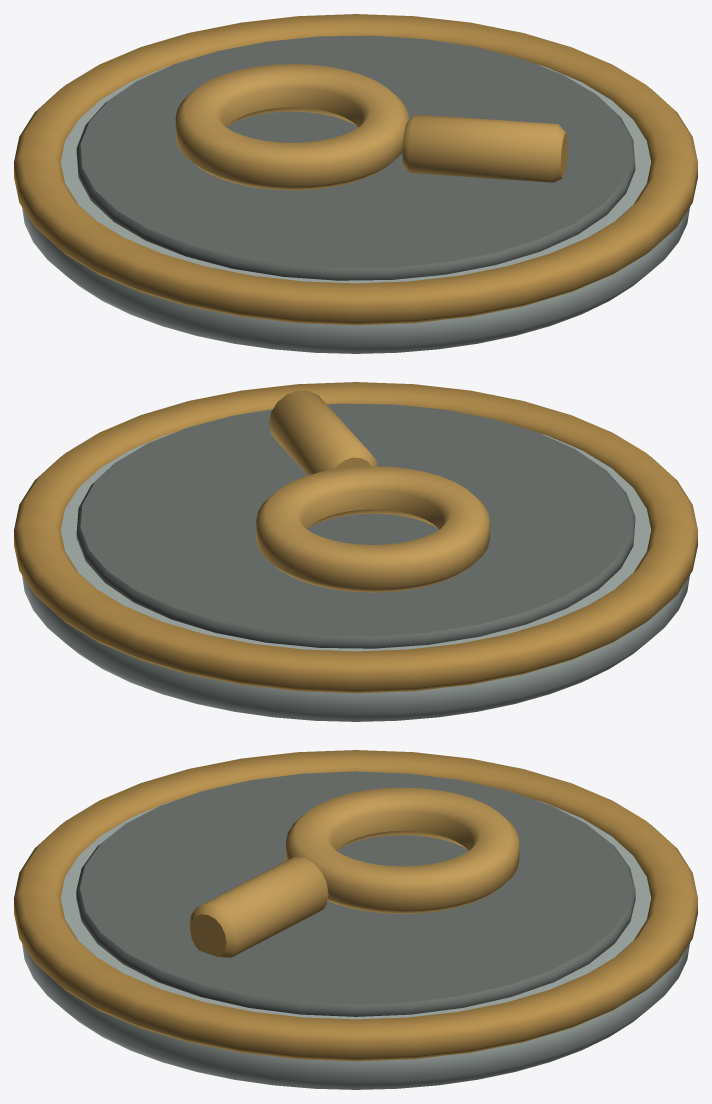
File: ServiceToken_Operations.fbx
3 views of the same model, one above another, from view 1: azimuth 30°, elevation 25°; view 2: azimuth 150°, elevation 25°; view 3: azimuth 270°, elevation 25° (orthographic).
Visible parts, largest first — view 1: Enamel field, Raised rim, Stamped metal blank, Magnifier icon, Magnifier handle; view 2: Enamel field, Raised rim, Stamped metal blank, Magnifier icon, Magnifier handle; view 3: Enamel field, Raised rim, Stamped metal blank, Magnifier icon, Magnifier handle.
Part boxes in pixels (<box>): Enamel field: <box>76,35,635,280</box>; Raised rim: <box>14,14,697,325</box>; Stamped metal blank: <box>22,64,689,353</box>; Magnifier icon: <box>175,64,408,190</box>; Magnifier handle: <box>402,114,567,182</box>; Enamel field: <box>76,403,635,648</box>; Raised rim: <box>14,382,697,693</box>; Stamped metal blank: <box>22,432,689,721</box>; Magnifier icon: <box>256,466,489,592</box>; Magnifier handle: <box>269,390,377,475</box>; Enamel field: <box>76,771,635,1016</box>; Raised rim: <box>14,750,697,1061</box>; Stamped metal blank: <box>22,800,689,1089</box>; Magnifier icon: <box>286,787,519,913</box>; Magnifier handle: <box>189,857,328,957</box>.
Size of the model in its own units: 0.088 by 0.016 by 0.088.
